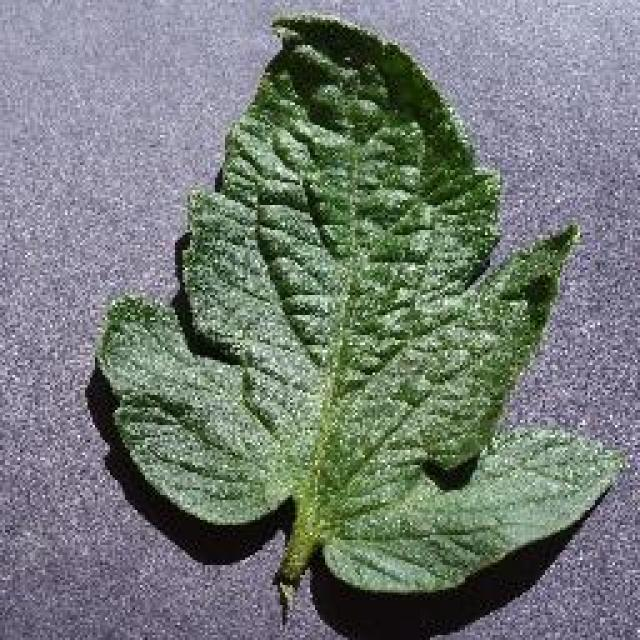Tomato healthy leaf: (100, 12, 610, 600)
